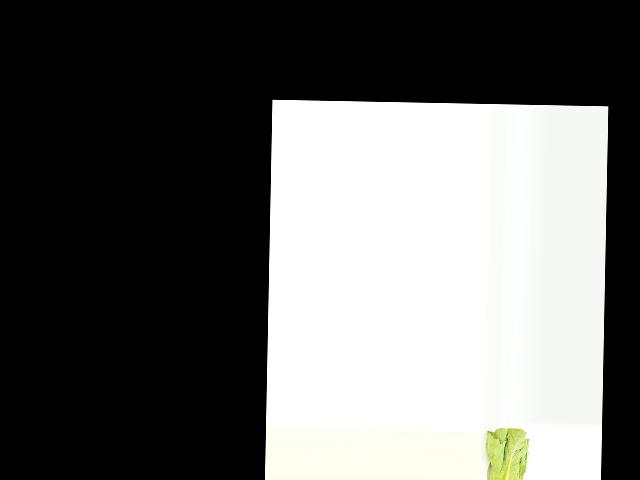lettuce: (484, 427, 530, 480)
